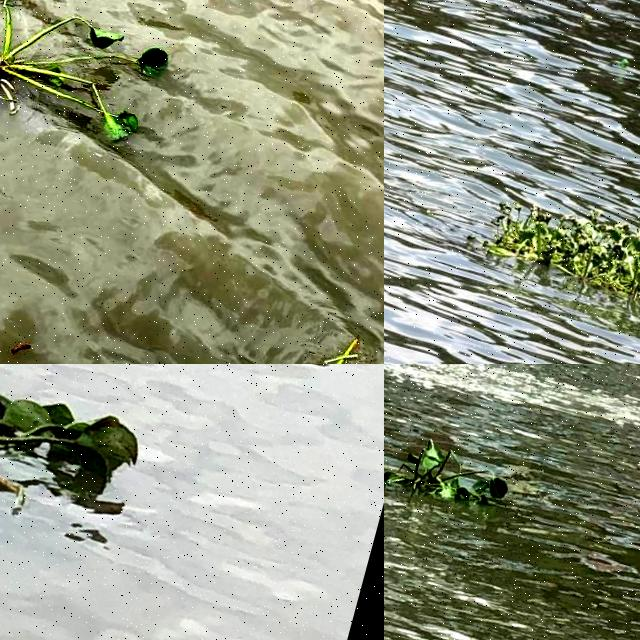water-hyacinth: (1, 365, 184, 537), (1, 1, 183, 152), (469, 185, 640, 328), (385, 420, 520, 529)
